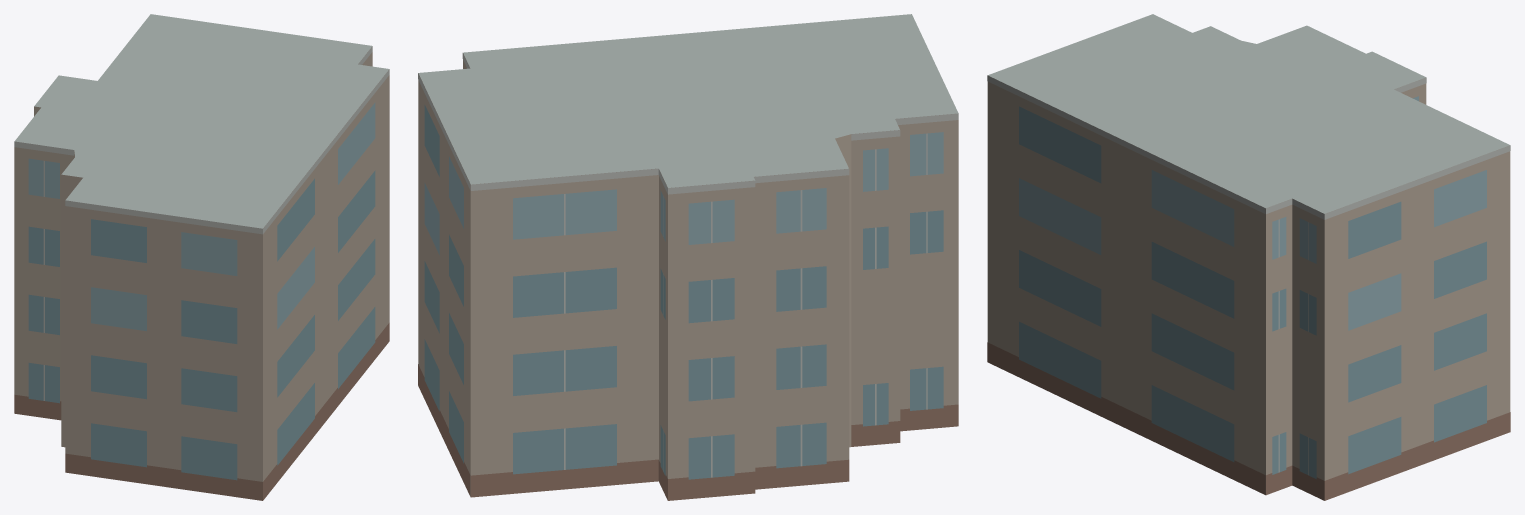
The model's file is survey-upis-32785650.glb.
3 views of the same model, side by side, from view 1: azimuth 30°, elevation 25°; view 2: azimuth 150°, elevation 25°; view 3: azimuth 270°, elevation 25° (orthographic). The views are drawn at different scales.
Parts seen in each view (by area): view 1: survey-upis-32785650.tmp; view 2: survey-upis-32785650.tmp; view 3: survey-upis-32785650.tmp.
Boxes of the visible parts, box(x1,y1,x2,y2) form: survey-upis-32785650.tmp: box(14, 14, 389, 500); survey-upis-32785650.tmp: box(418, 14, 958, 500); survey-upis-32785650.tmp: box(987, 14, 1510, 500).
Bounding box in the file's own units: 17.49 × 11.7 × 19.33.
